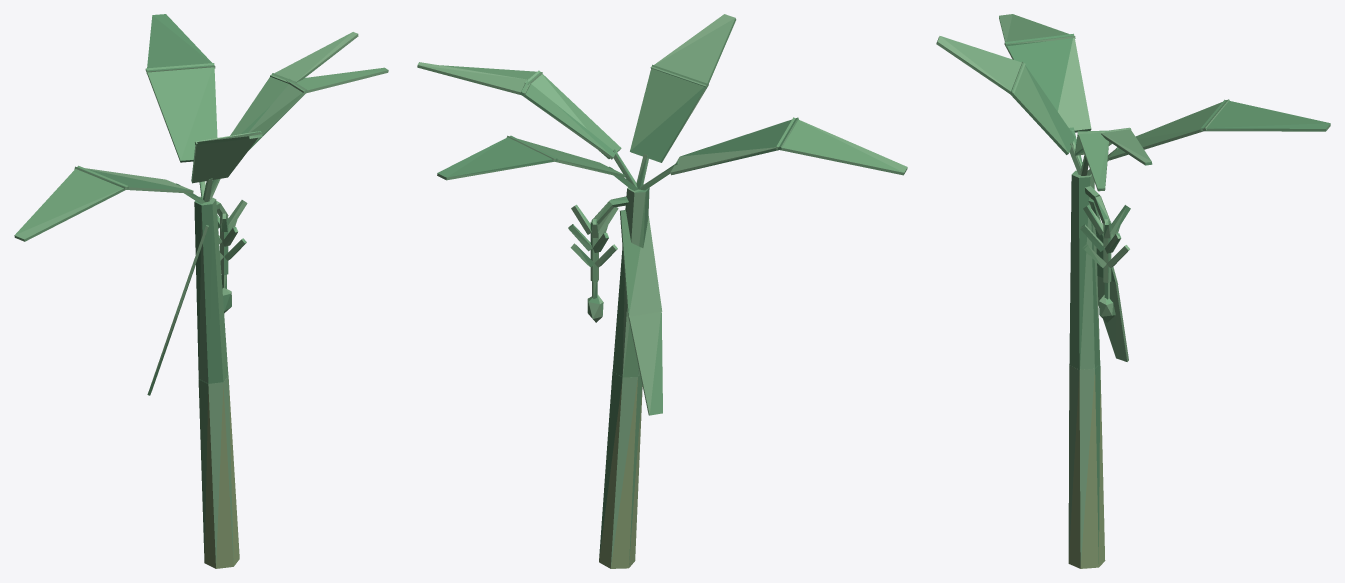
File: plantain-tree-00.glb
The picture shows the model from 3 angles, left to right: view 1: azimuth 30°, elevation 25°; view 2: azimuth 150°, elevation 25°; view 3: azimuth 270°, elevation 25°; orthographic projection. The views are drawn at different scales.
Visible parts, largest first — view 1: plantain_tree_00; view 2: plantain_tree_00; view 3: plantain_tree_00.
Part boxes in pixels (x1=…): plantain_tree_00: x1=14, y1=14, x2=388, y2=568; plantain_tree_00: x1=417, y1=14, x2=907, y2=568; plantain_tree_00: x1=936, y1=14, x2=1330, y2=568.
Bounding box in the file's own units: 3.33 × 3.74 × 2.65.
